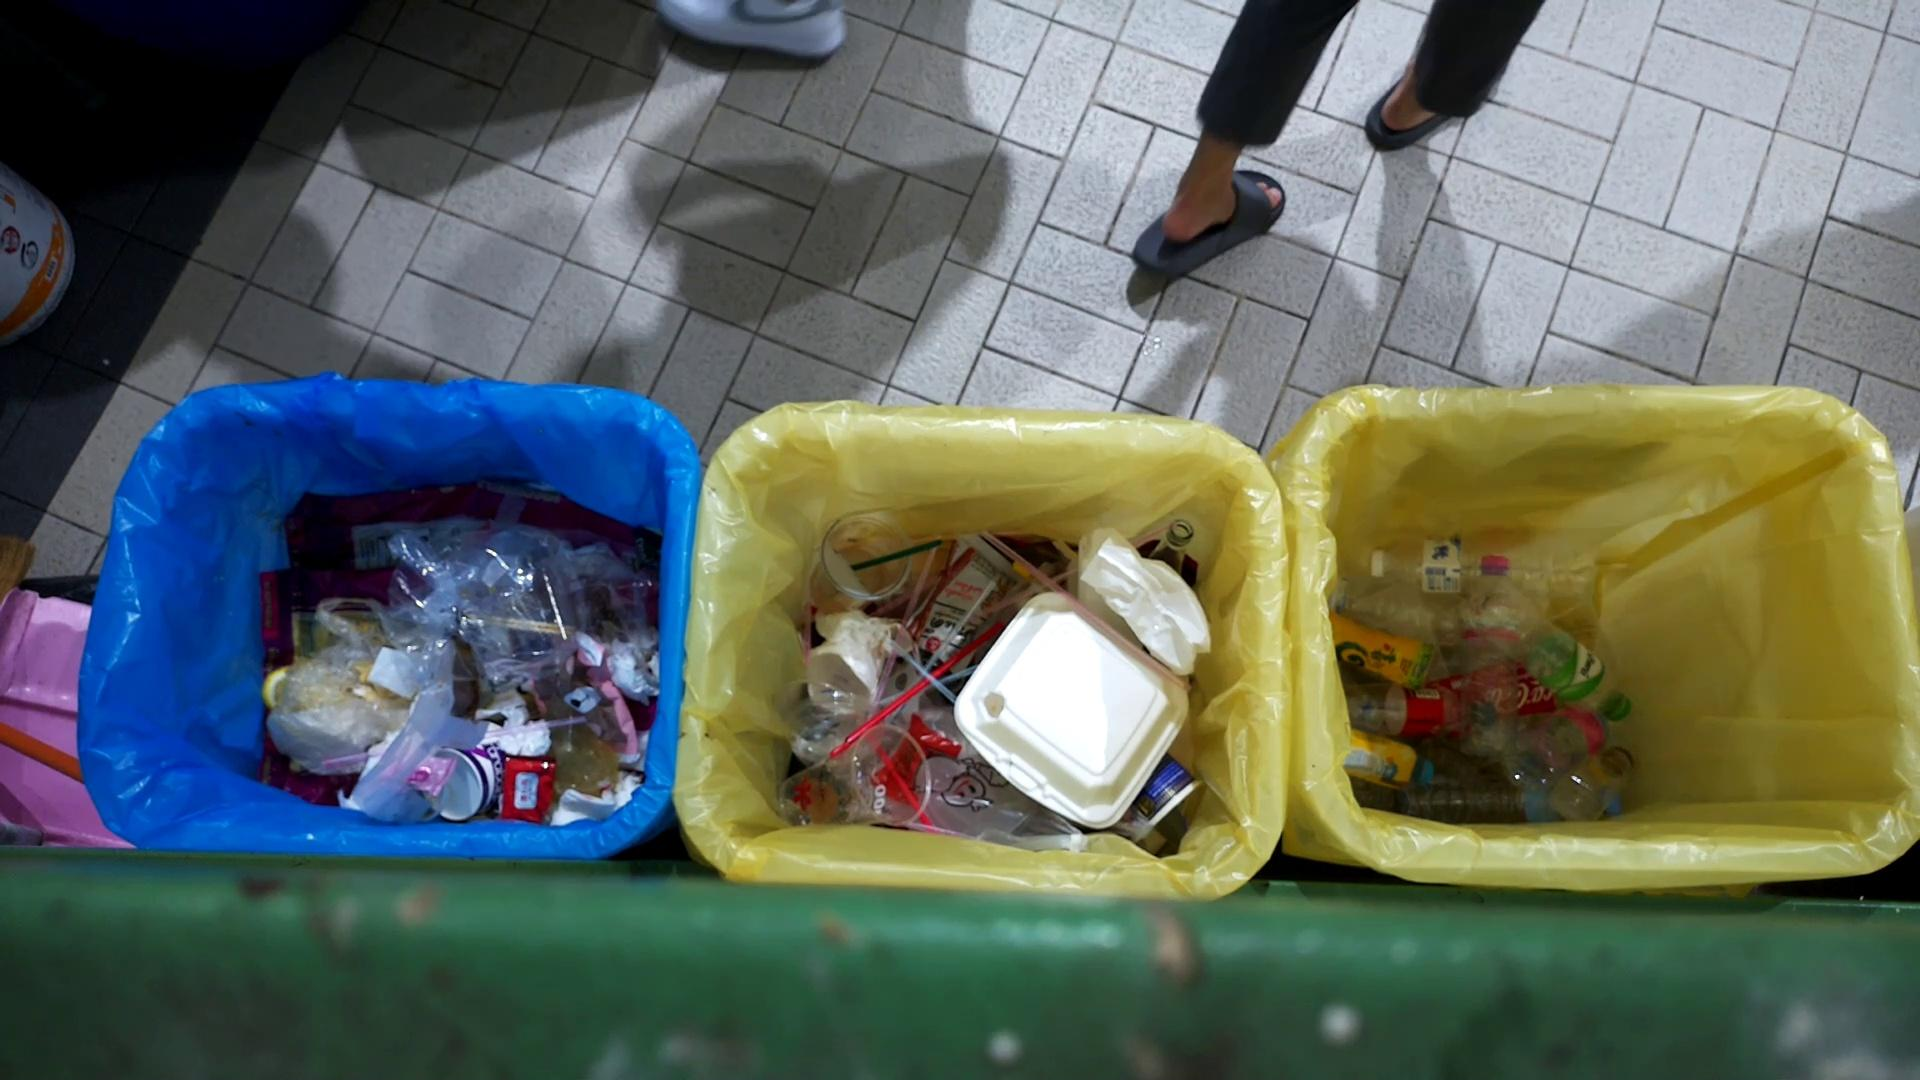filled plastic bag: (360, 498, 607, 683)
food container: (944, 593, 1184, 832), (415, 742, 510, 820)
plastic bag: (260, 592, 418, 777), (353, 682, 492, 824), (529, 642, 636, 760)
plastic bottle: (1448, 576, 1643, 721), (1365, 533, 1604, 600), (1447, 546, 1523, 749), (1486, 707, 1617, 799), (1324, 611, 1437, 690), (1344, 682, 1460, 737), (1345, 727, 1439, 793)
plastic cup: (775, 719, 928, 835), (807, 512, 914, 604), (786, 692, 890, 766)
snack packaging: (497, 756, 554, 828)
straw: (980, 524, 1176, 690), (819, 618, 1009, 773), (874, 733, 943, 836), (918, 580, 993, 673), (849, 535, 945, 578)
tissue paper: (1083, 531, 1209, 683), (811, 613, 886, 696), (588, 630, 659, 699), (556, 782, 636, 825), (371, 640, 427, 692), (502, 707, 542, 753)
